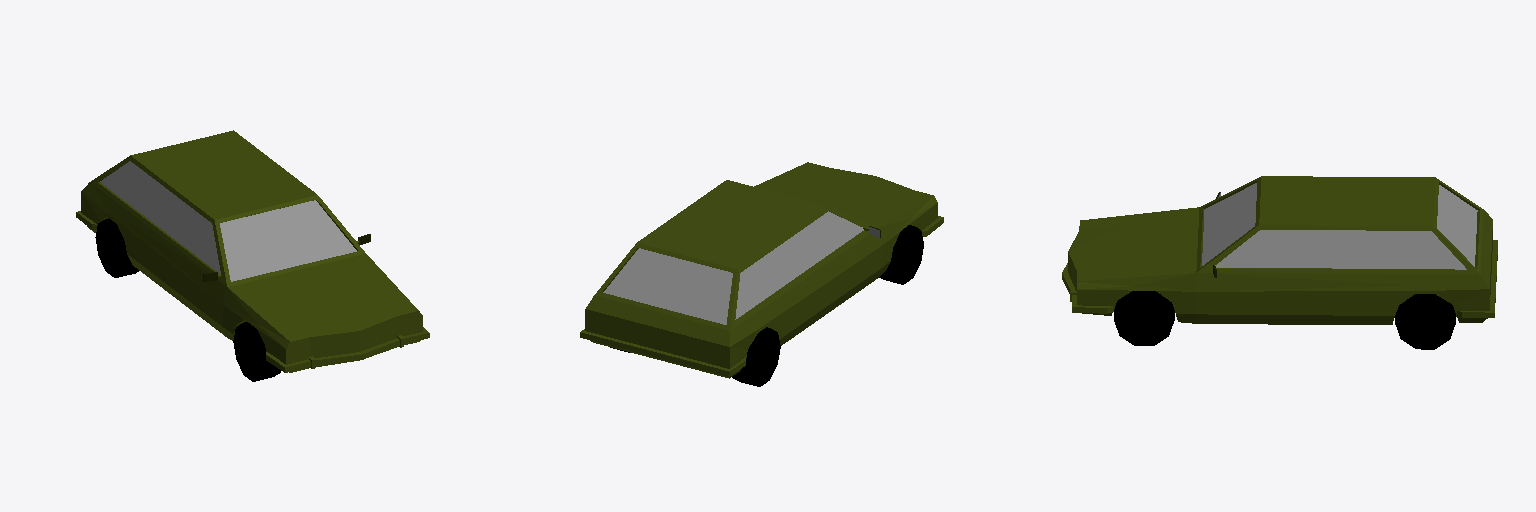
The model's file is newcar.obj.
The picture shows the model from 3 angles: view 1: azimuth 30°, elevation 25°; view 2: azimuth 150°, elevation 25°; view 3: azimuth 270°, elevation 25°; orthographic projection.
Visible parts, largest first — view 1: Object002newcar, Object003, Object002; view 2: Object002newcar, Object002, Object003; view 3: Object002newcar, Object001, Object001newcar.
Part boxes in pixels (x1,y1,x2,y2): Object002newcar: (76,130,429,372); Object003: (233,322,280,381); Object002: (95,218,138,277); Object002newcar: (580,162,943,378); Object002: (732,327,780,386); Object003: (879,225,923,284); Object002newcar: (1062,176,1497,324); Object001: (1114,291,1174,345); Object001newcar: (1395,294,1455,349).
Size of the model in its own units: 443 by 287 by 1012.